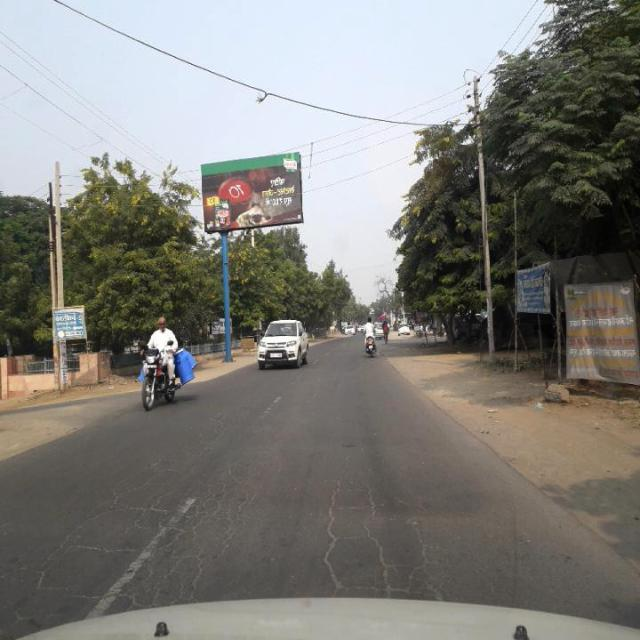crack: (32, 462, 247, 602), (321, 450, 445, 596)
